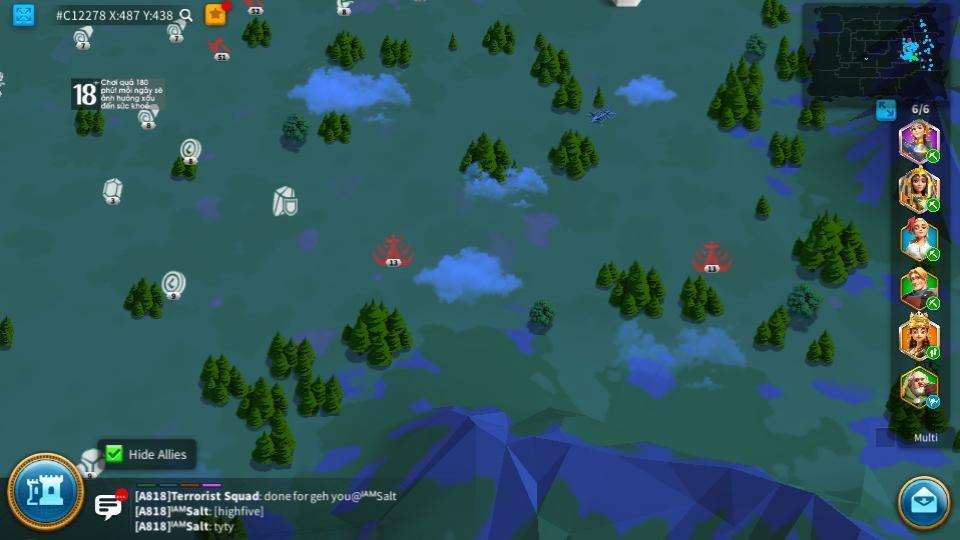gem-z-out: (101, 178, 124, 202)
march_farming: (923, 197, 940, 212), (925, 297, 941, 310), (925, 149, 941, 162), (924, 248, 939, 261)
march_idle: (925, 396, 942, 408)
march_marching: (925, 346, 941, 359)
